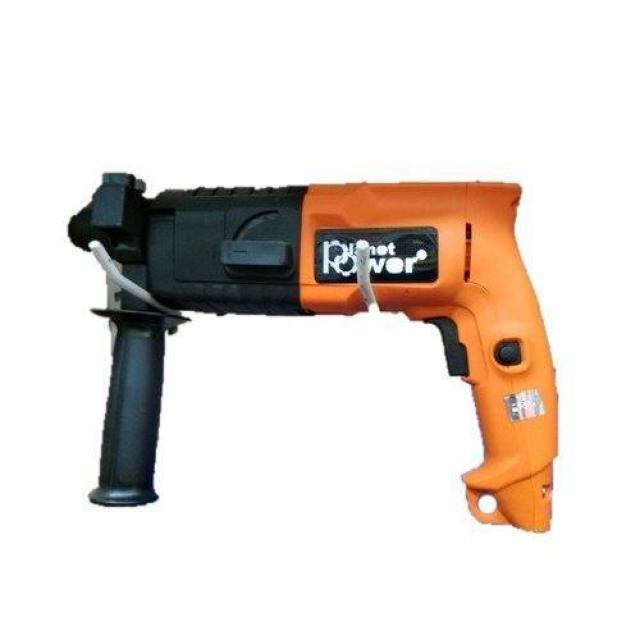drill: (66, 171, 560, 536)
